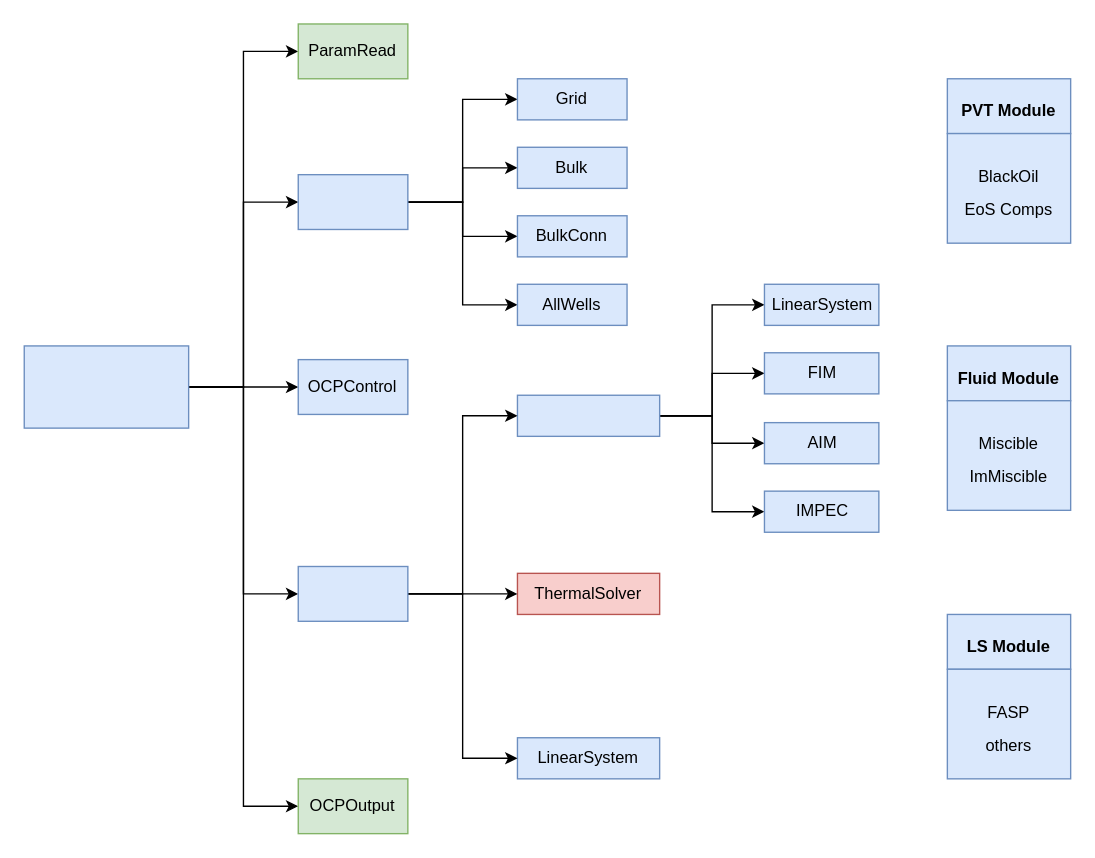
The diagram is 1095 pixels wide and 858 high, and some of its shapes have lost their labels. The centre of each missing label's shape, as x and y in pixels:
"IsothermalSolver" goes at (x=588, y=415).
"OpenCAEPoro" goes at (x=106, y=386).
"Reservoir" goes at (x=352, y=201).
"Solver" goes at (x=352, y=593).
